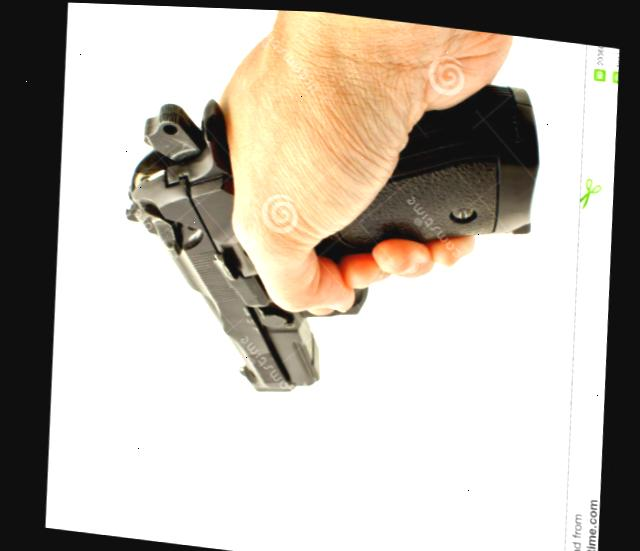pistol: (108, 65, 545, 394)
